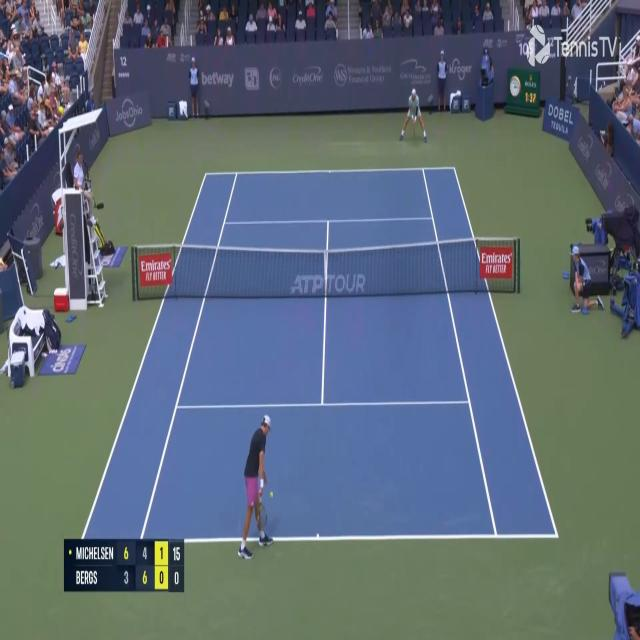tennis-player: (236, 410, 276, 563), (399, 85, 428, 144)
